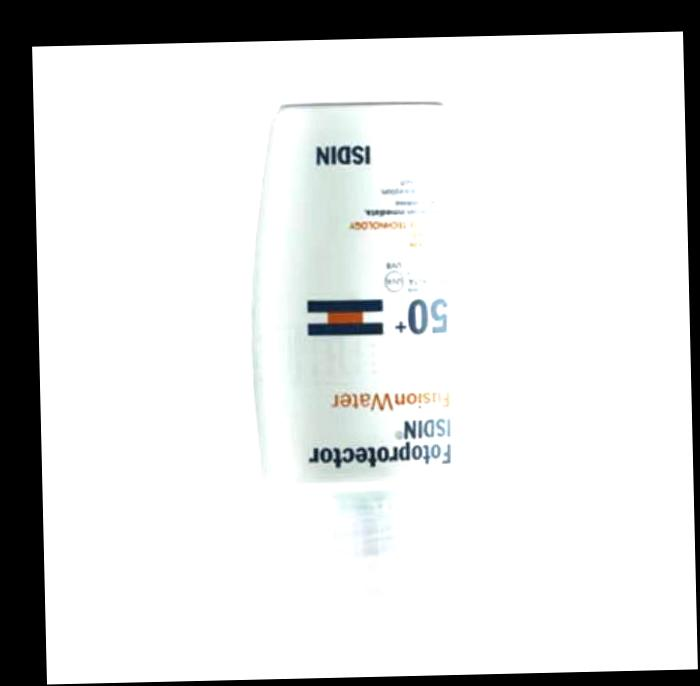cosmetic: (245, 97, 483, 607)
